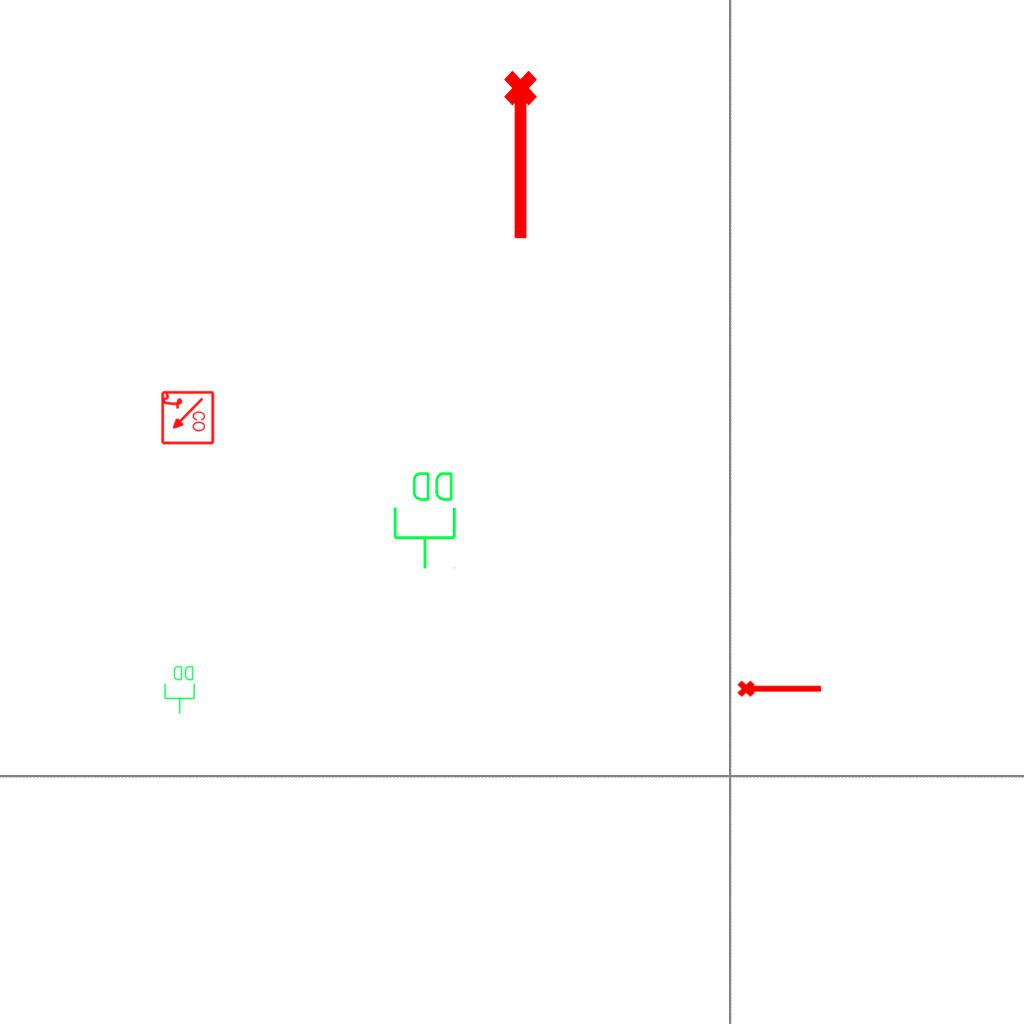ASR_Ansaugoeffnung: (500, 68, 546, 244), (736, 676, 824, 699)
Datenanschluss_zweifach: (391, 468, 460, 571), (163, 664, 197, 715)
ROA_Rauchmelder_optisch_mit_Signalgeber_(Sockelsirene): (159, 390, 215, 446)
